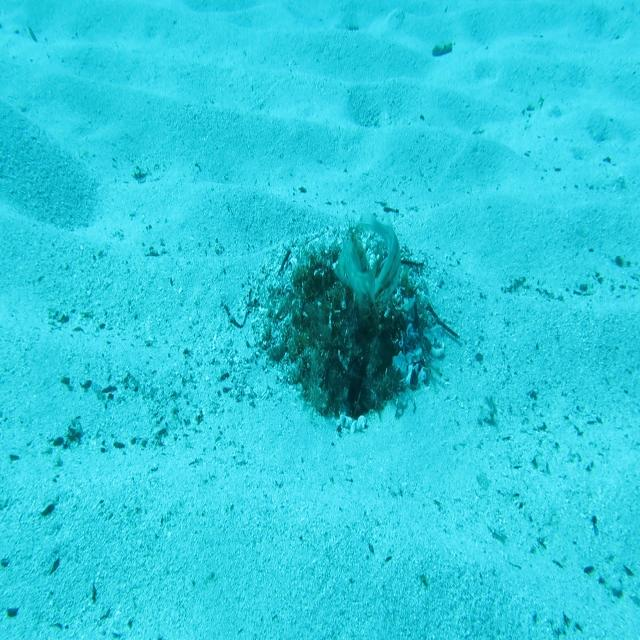SPA: (333, 230, 381, 316)
core_nest: (315, 268, 368, 324)
female: (360, 208, 403, 308)
nest: (236, 214, 454, 448)
vegetation: (431, 40, 455, 60)
